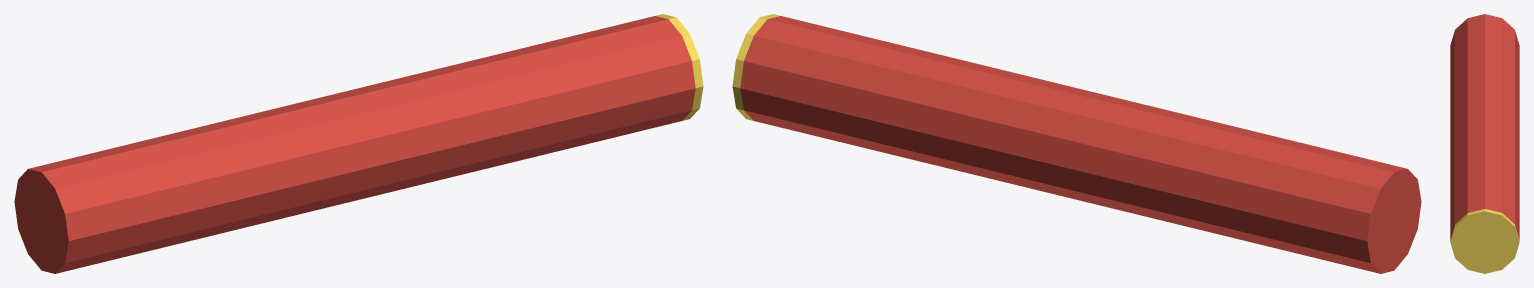
The model's file is sm_product_rolled_rug.glb.
3 views of the same model, side by side, from view 1: azimuth 30°, elevation 25°; view 2: azimuth 150°, elevation 25°; view 3: azimuth 270°, elevation 25° (orthographic). The views are drawn at different scales.
Visible parts, largest first — view 1: rolled_rug_0, rolled_rug_1; view 2: rolled_rug_0, rolled_rug_1; view 3: rolled_rug_0, rolled_rug_1.
Boxes of the visible parts, box(x1,y1,x2,y2) form: rolled_rug_0: box(14, 16, 695, 273); rolled_rug_1: box(655, 14, 703, 120); rolled_rug_0: box(740, 16, 1421, 273); rolled_rug_1: box(732, 14, 780, 120); rolled_rug_0: box(1450, 14, 1519, 239); rolled_rug_1: box(1450, 209, 1519, 273).
Size of what is drawn, in the model's own units: 1.62 by 0.24 by 0.24.
